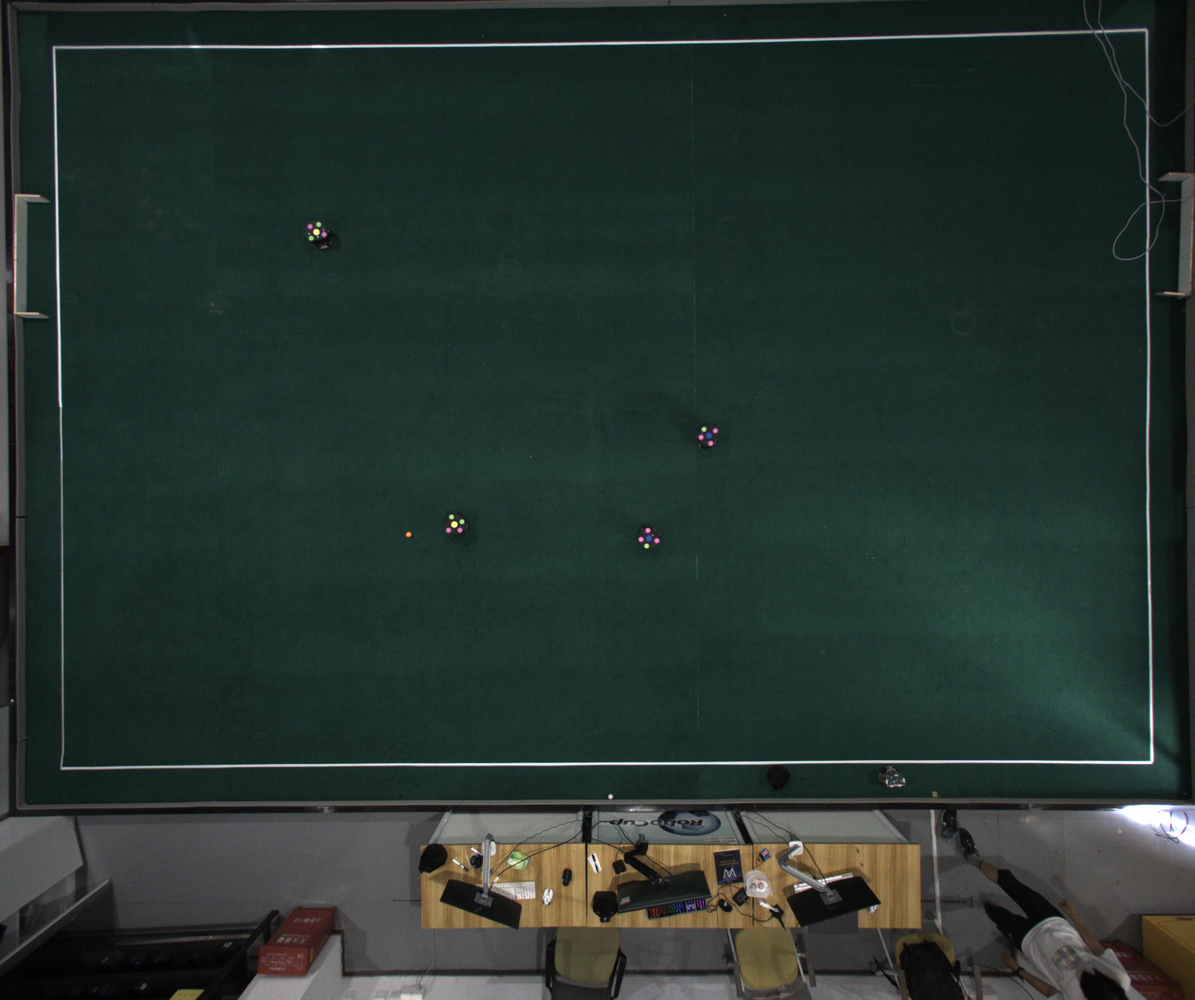ball: (405, 532, 412, 538)
blue_bot: (637, 526, 662, 551), (697, 425, 720, 449)
yellow_bot: (305, 220, 329, 243), (443, 513, 466, 536)
